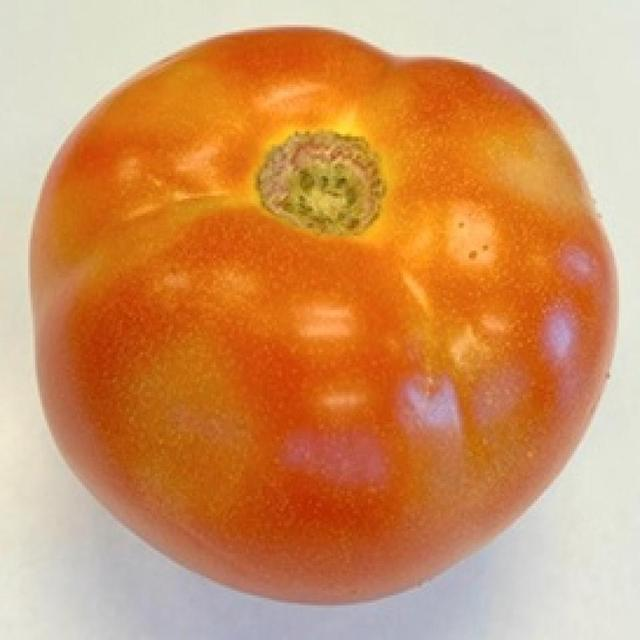Spotted wilt Virus Fruit: (48, 15, 84, 117)
